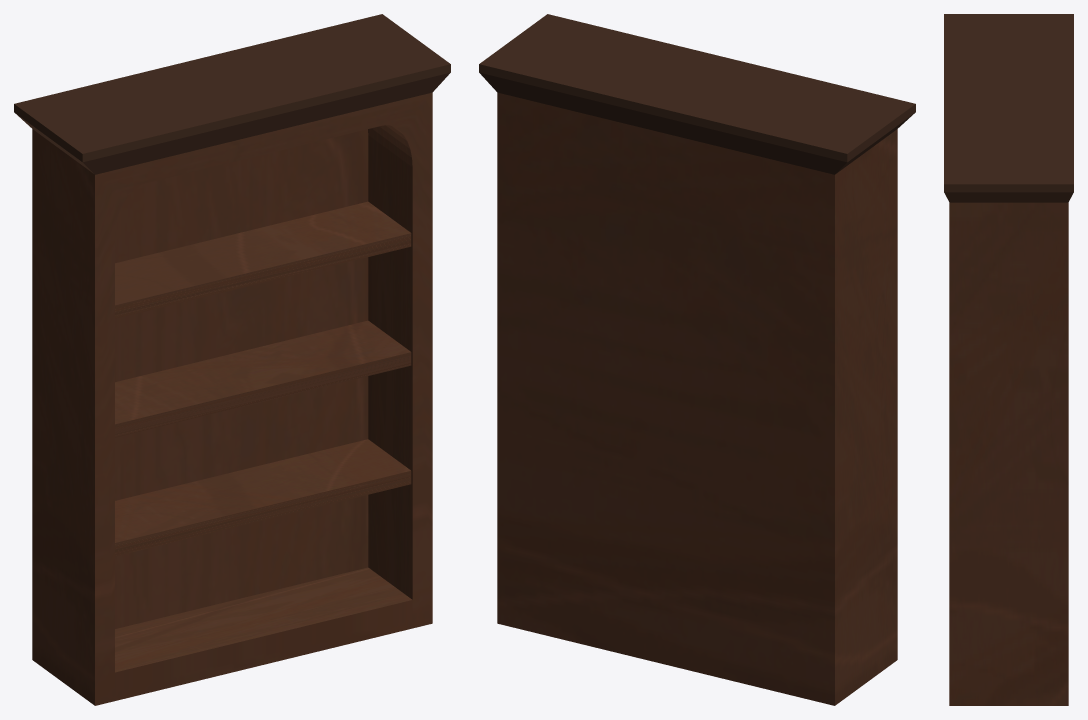
File: bookshelf.fbx
3 views of the same model, side by side, from view 1: azimuth 30°, elevation 25°; view 2: azimuth 150°, elevation 25°; view 3: azimuth 270°, elevation 25° (orthographic). The views are drawn at different scales.
Parts seen in each view (by area): view 1: Cube; view 2: Cube; view 3: Cube.
Part boxes in pixels (x1,y1,x2,y2): Cube: [14, 14, 450, 705]; Cube: [479, 14, 915, 705]; Cube: [944, 14, 1073, 705].
Size of the model in its own units: 98.21 by 142 by 31.64.
Materials: 2 (1 with a texture image).
